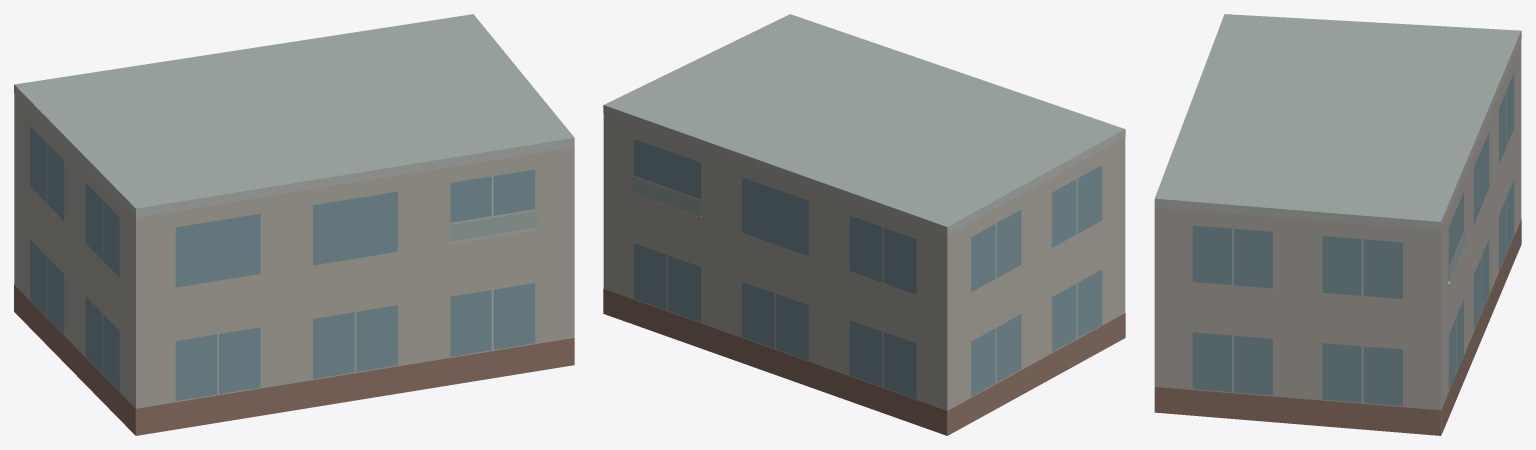
Rendered from survey-upis-32659229.glb.
3 renders of one model, left to right at view 1: azimuth 30°, elevation 25°; view 2: azimuth 150°, elevation 25°; view 3: azimuth 270°, elevation 25°, orthographic. The views are drawn at different scales.
Visible parts, largest first — view 1: survey-upis-32659229.tmp; view 2: survey-upis-32659229.tmp; view 3: survey-upis-32659229.tmp.
Boxes of the visible parts, x1,y1,x2,y2 form: survey-upis-32659229.tmp: (14,14,574,435); survey-upis-32659229.tmp: (603,14,1125,435); survey-upis-32659229.tmp: (1154,14,1521,435).
Bounding box in the file's own units: 12.73 × 6.1 × 9.49.
